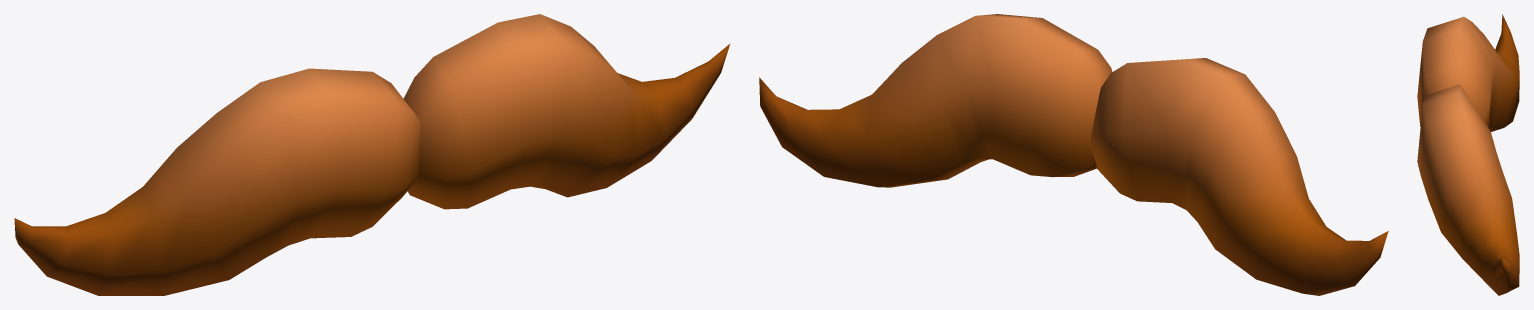
Rendered from brkovi.fbx.
3 views of the same model, side by side, from view 1: azimuth 30°, elevation 25°; view 2: azimuth 150°, elevation 25°; view 3: azimuth 270°, elevation 25° (orthographic). The views are drawn at different scales.
Visible parts, largest first — view 1: Miner_Moustache.001; view 2: Miner_Moustache.001; view 3: Miner_Moustache.001.
Boxes of the visible parts, bbox=[...] form: Miner_Moustache.001: bbox=[14, 14, 730, 295]; Miner_Moustache.001: bbox=[759, 14, 1388, 295]; Miner_Moustache.001: bbox=[1417, 14, 1519, 295].
Size of the model in its own units: 11.12 by 3.11 by 1.98.
Materials: 1 (1 with a texture image).
